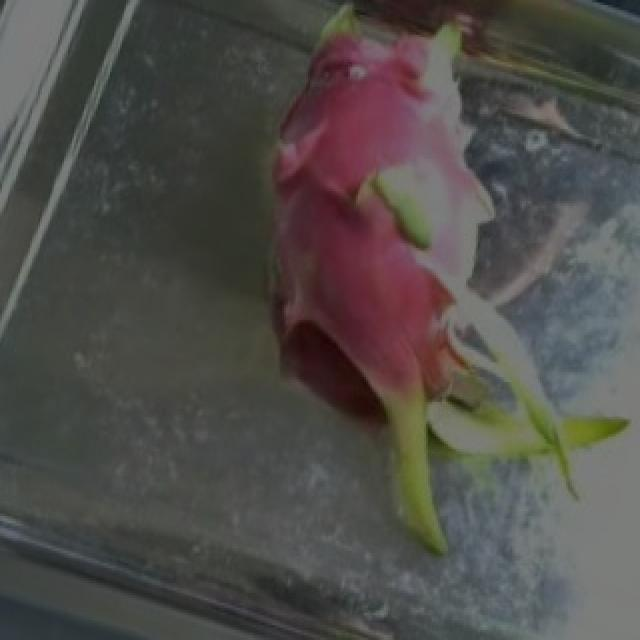fruit: (206, 141, 634, 573)
